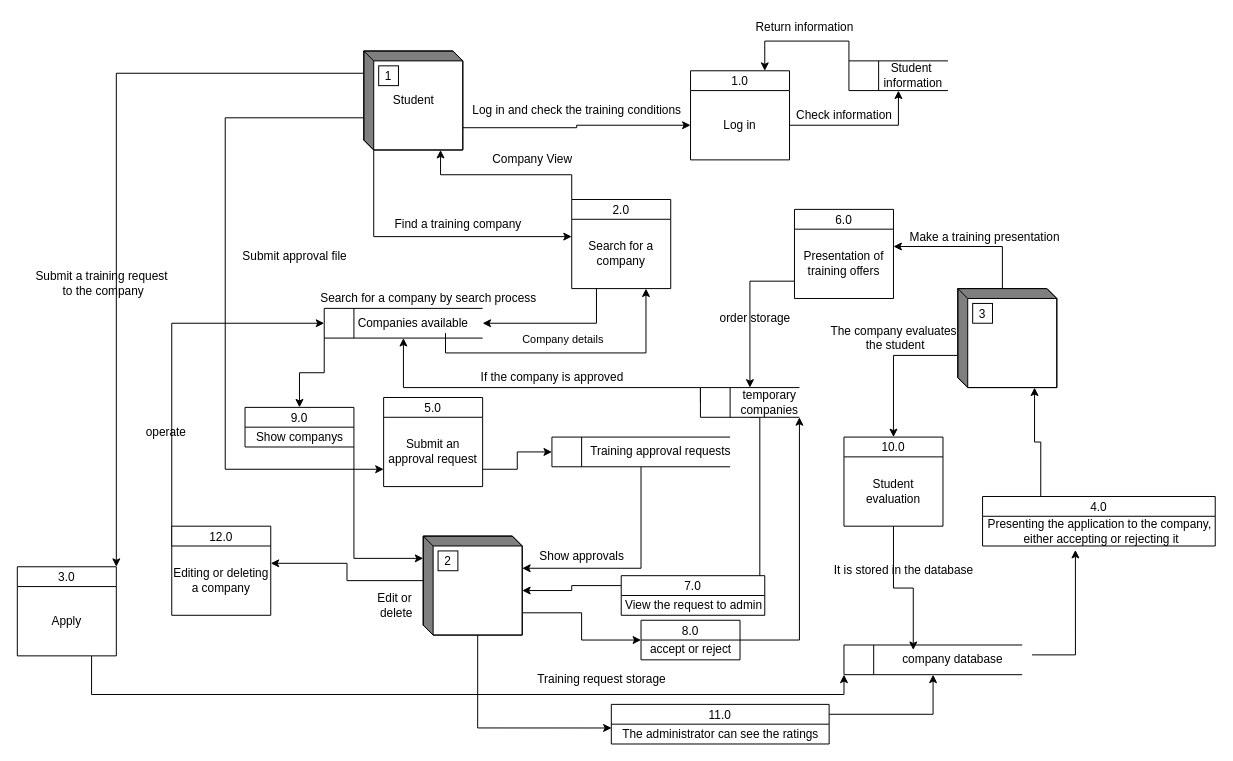
This 1233x761 diagram has some shape labels left out. Here are the shapes that lost their labels. From the top down, the box of each, then its label:
(848, 60, 948, 91): D1
(323, 307, 483, 338): D2
(957, 288, 1057, 388): Company
(699, 387, 799, 417): D5
(551, 436, 730, 467): D4
(422, 535, 522, 635): Admin
(843, 644, 1022, 675): D3
